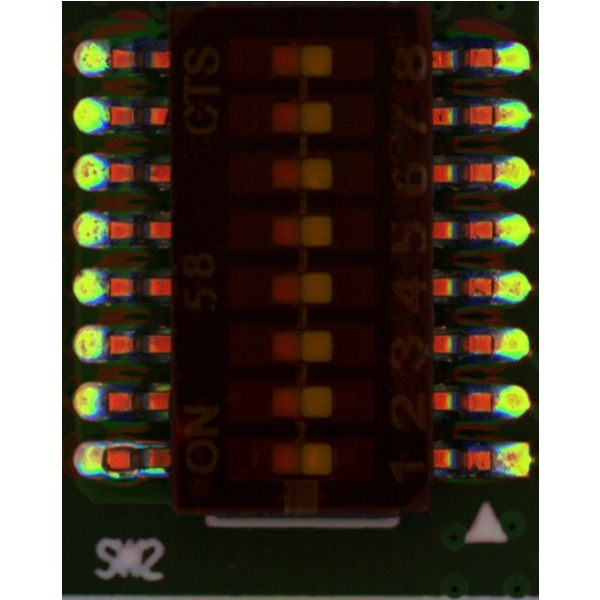Bad_podu: (106, 468, 170, 478), (108, 439, 169, 448), (482, 333, 505, 353), (487, 106, 510, 124), (483, 277, 506, 295), (488, 164, 508, 182), (486, 220, 505, 237), (487, 47, 503, 67)
